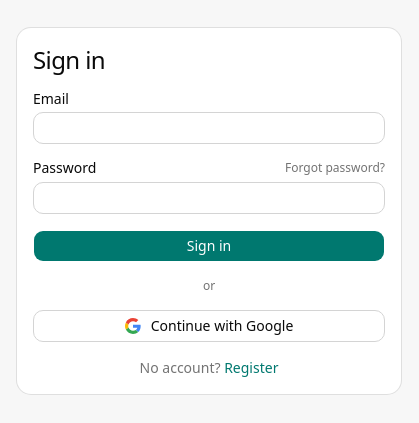
Test: LoginForm › shows an email validation error after blurring an invalid address
Type "not-an-email" into the field labelled "Email" at point(209, 128), box [33,112,385,144]
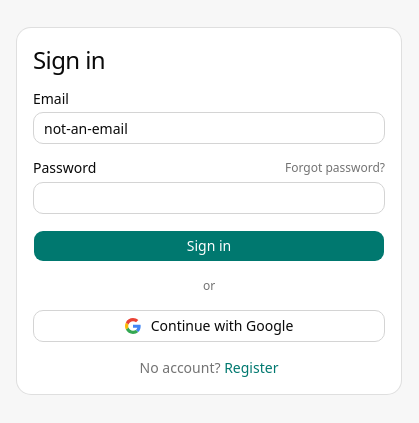
Leave the field labelled "Email", box [33,112,385,144]
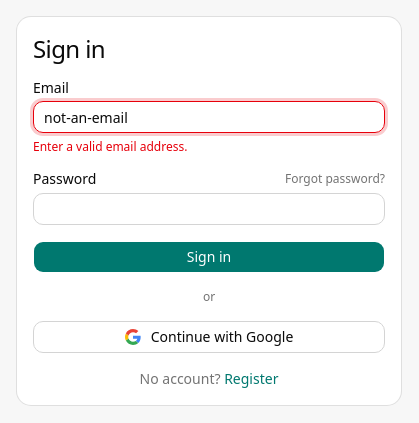
Result: the text "Enter a valid email address." is shown at [33,138,187,155]
